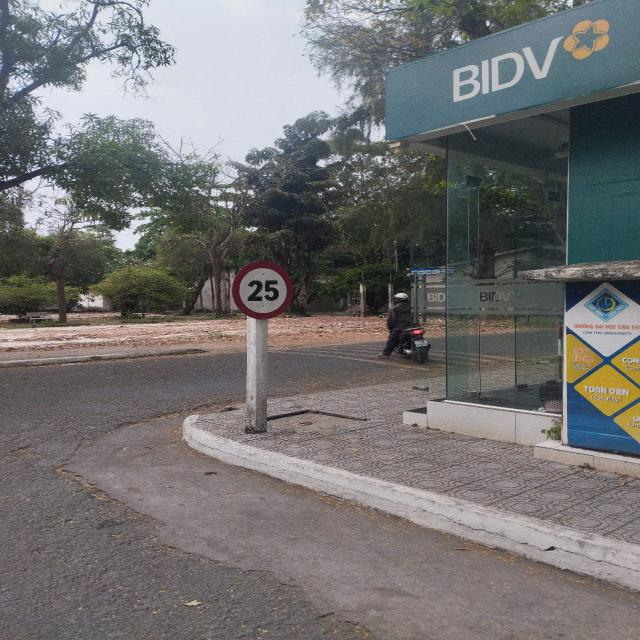Tre_Em: (232, 261, 294, 320)
